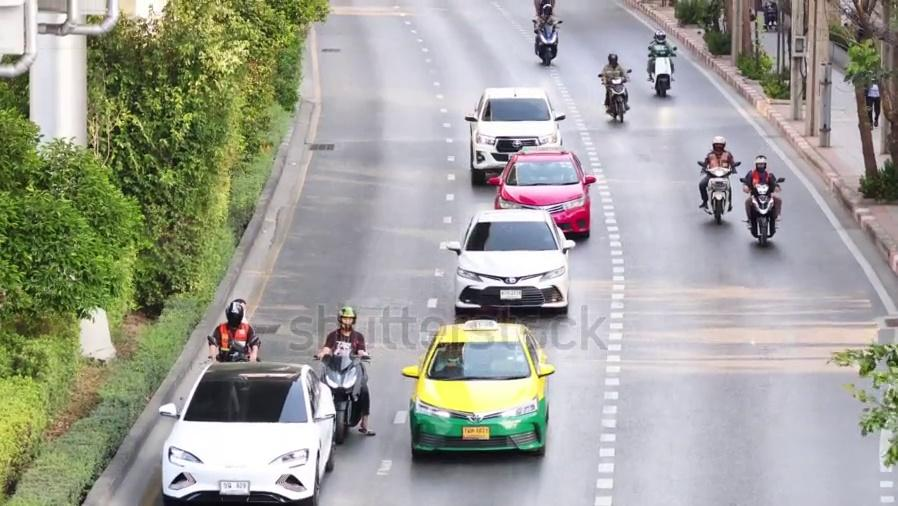person: (864, 79, 881, 127)
rider: (314, 305, 376, 436), (206, 298, 261, 362), (740, 154, 782, 227), (697, 135, 738, 208), (598, 53, 630, 111), (533, 0, 561, 64), (646, 29, 677, 82)
with_helmate: (221, 301, 250, 326), (335, 308, 358, 329), (710, 134, 730, 153), (603, 50, 619, 71), (752, 155, 769, 172), (651, 31, 668, 46)
